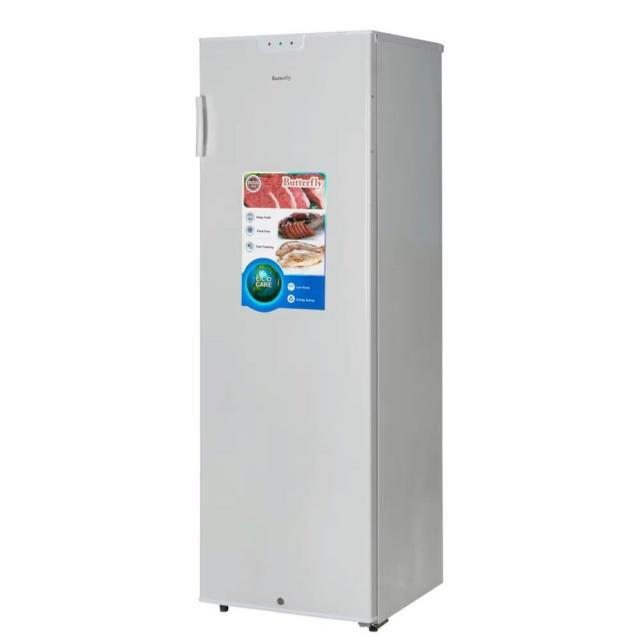refrigerator: (198, 34, 447, 611)
